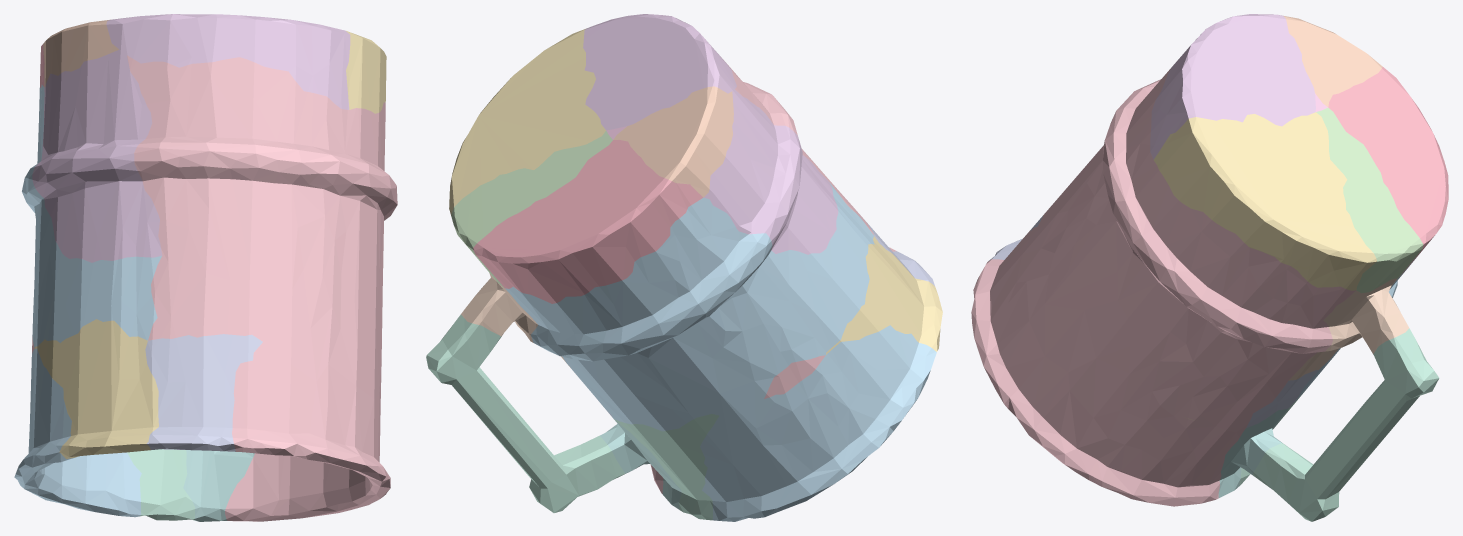
The model's file is 37f56901_colored.glb.
The picture shows the model from 3 angles, left to right: view 1: azimuth 30°, elevation 25°; view 2: azimuth 150°, elevation 25°; view 3: azimuth 270°, elevation 25°; orthographic projection. The views are drawn at different scales.
Parts seen in each view (by area): view 1: world; view 2: world; view 3: world.
Part boxes in pixels (x1,y1,x2,y2): world: (14, 14, 397, 521); world: (426, 14, 942, 521); world: (971, 14, 1448, 521).
Size of the model in its own units: 0.7974 by 0.9412 by 0.8819.
